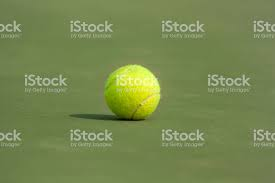tennis_ball: (103, 63, 161, 121)
